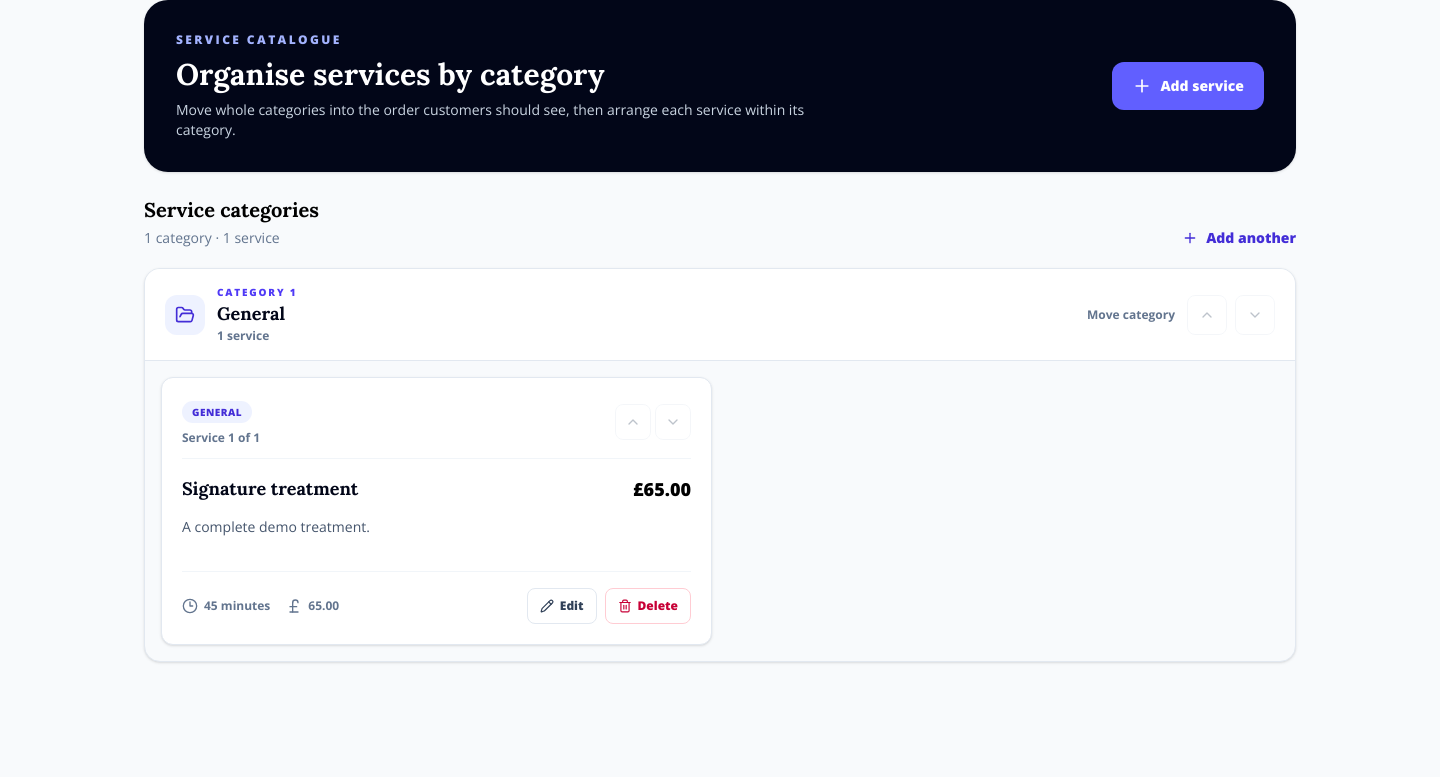
Test: ServicesPage › loads an existing service into the form, saves the changes, and shows its new category
Click the button with aria-label "Edit Signature treatment" at (562,606), box [527,588,596,624]
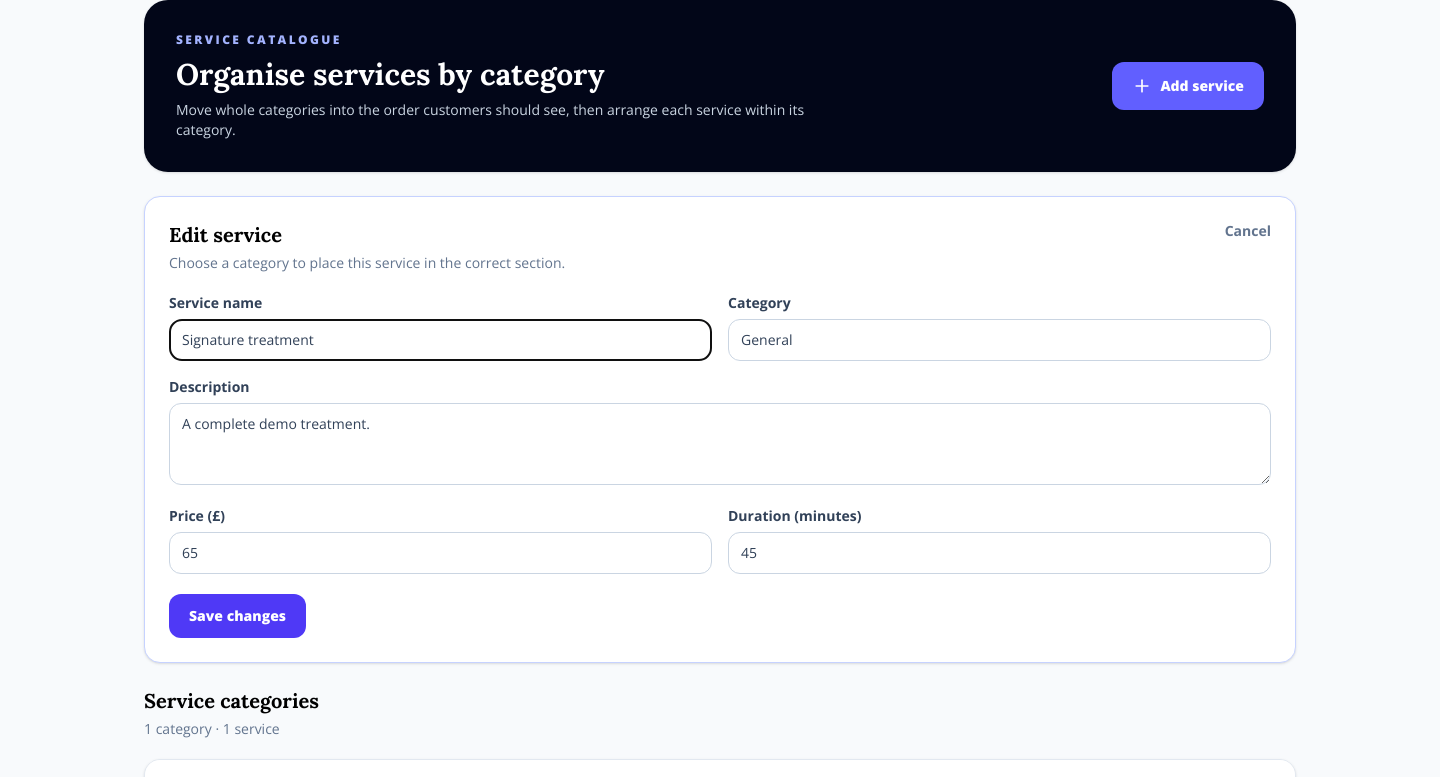
Check: the heading "Edit service" is shown, box [169,222,282,247]
Check: the field labelled "Service name" holds "Signature treatment"
Replace the text in the field labelled "Service name" with "Updated signature treatment" at (440,340), box [169,319,712,361]
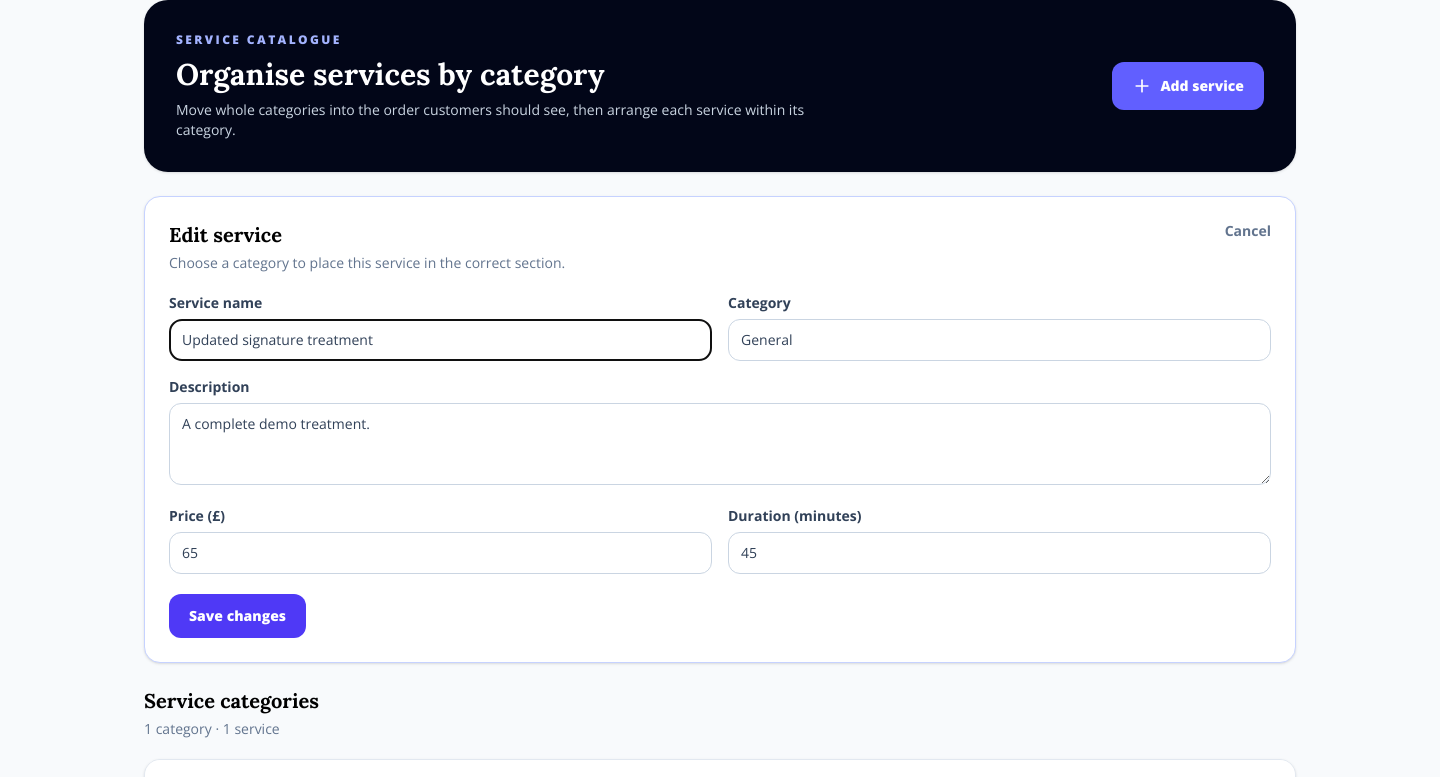
Replace the text in the field labelled "Category" with "Premium" at (1000,340), box [728,319,1271,361]
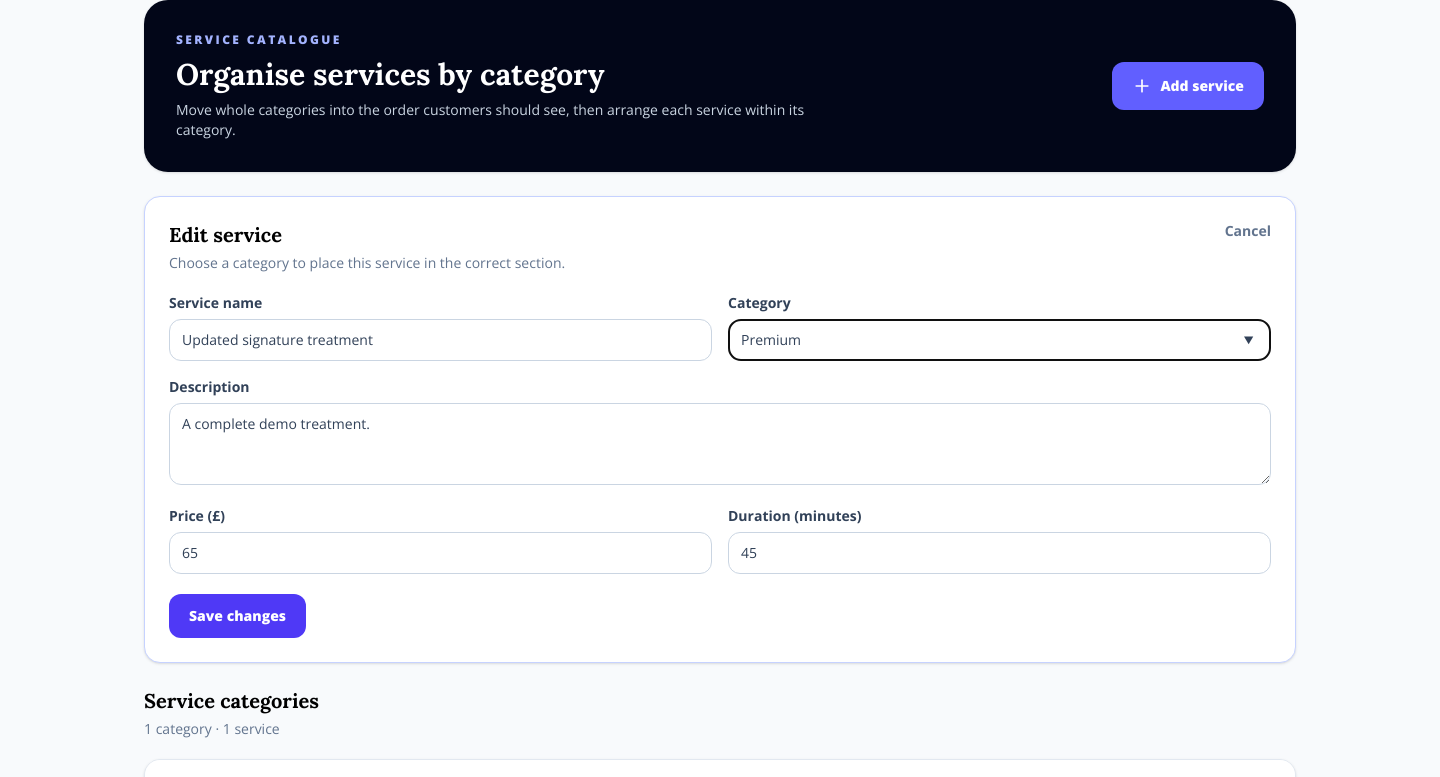
Replace the text in the number field labelled "Price (£)" with "75" at (440,553), box [169,532,712,574]
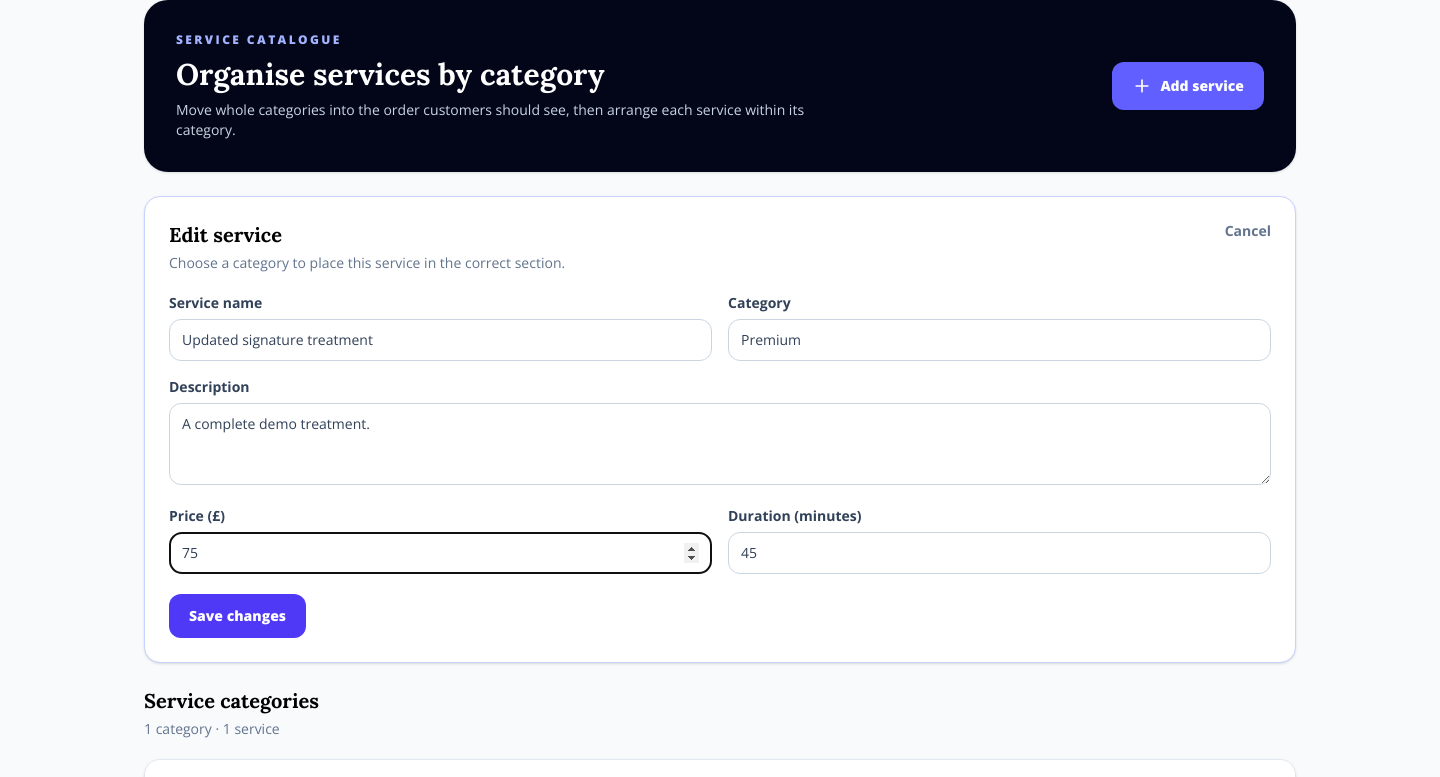
Replace the text in the number field labelled "Duration (minutes)" with "60" at (1000,553), box [728,532,1271,574]
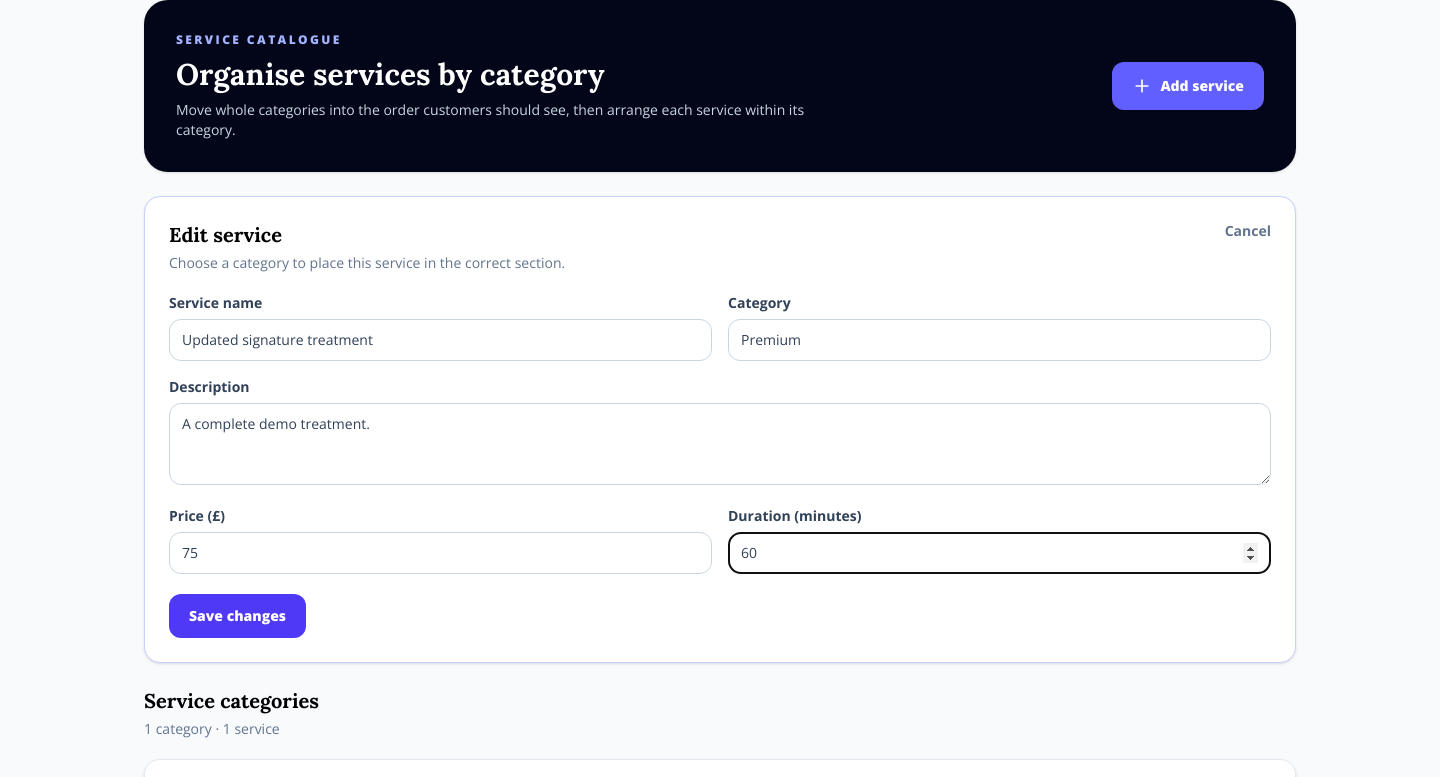
Click the button "Save changes" at (238,616), box [169,594,306,638]
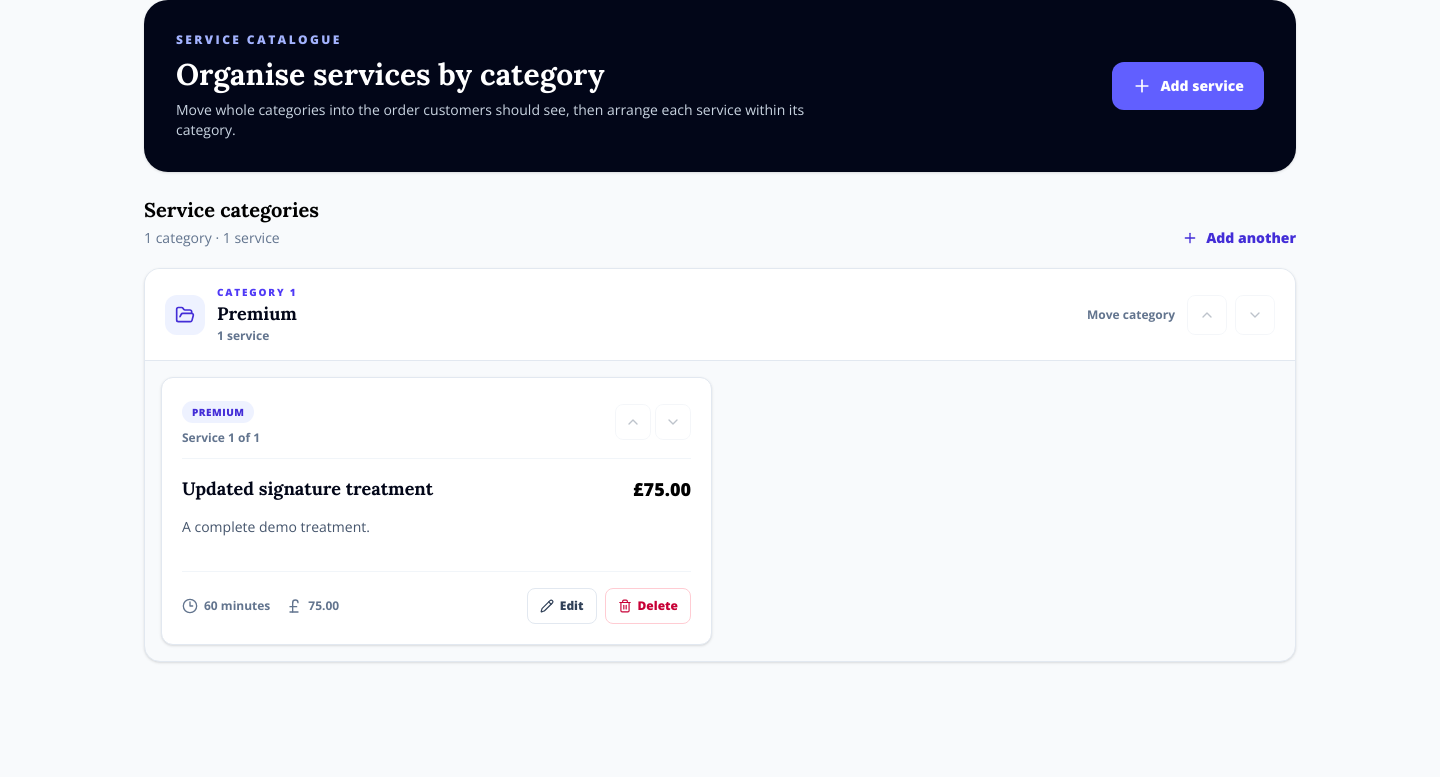
Check: the heading "Premium" is shown, box [217,300,297,328]
Check: the heading "Updated signature treatment" is shown, box [182,475,433,503]
Check: the heading "Edit service" is gone
